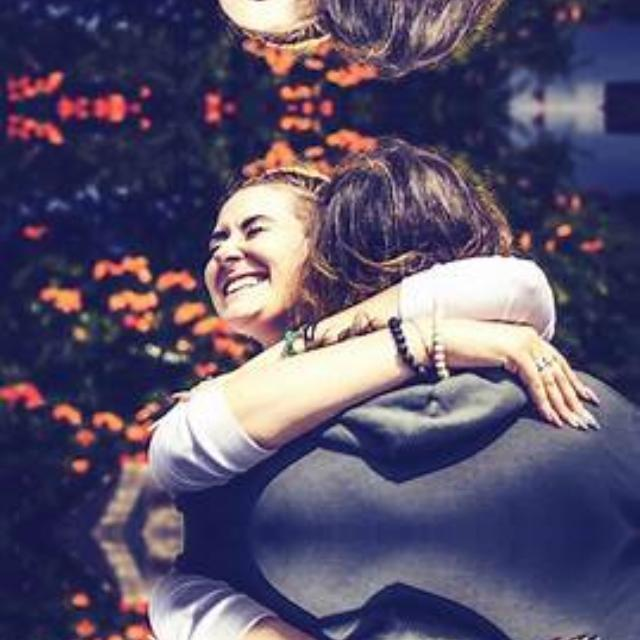person: (162, 156, 316, 362), (162, 0, 316, 58)
